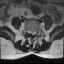CCS_normal: (32, 29, 33, 37)
LFS_normal: (35, 27, 37, 35)
LLS_normal: (33, 28, 35, 36)
RFS_normal: (28, 27, 30, 35)
RLS_normal: (30, 28, 32, 35)
